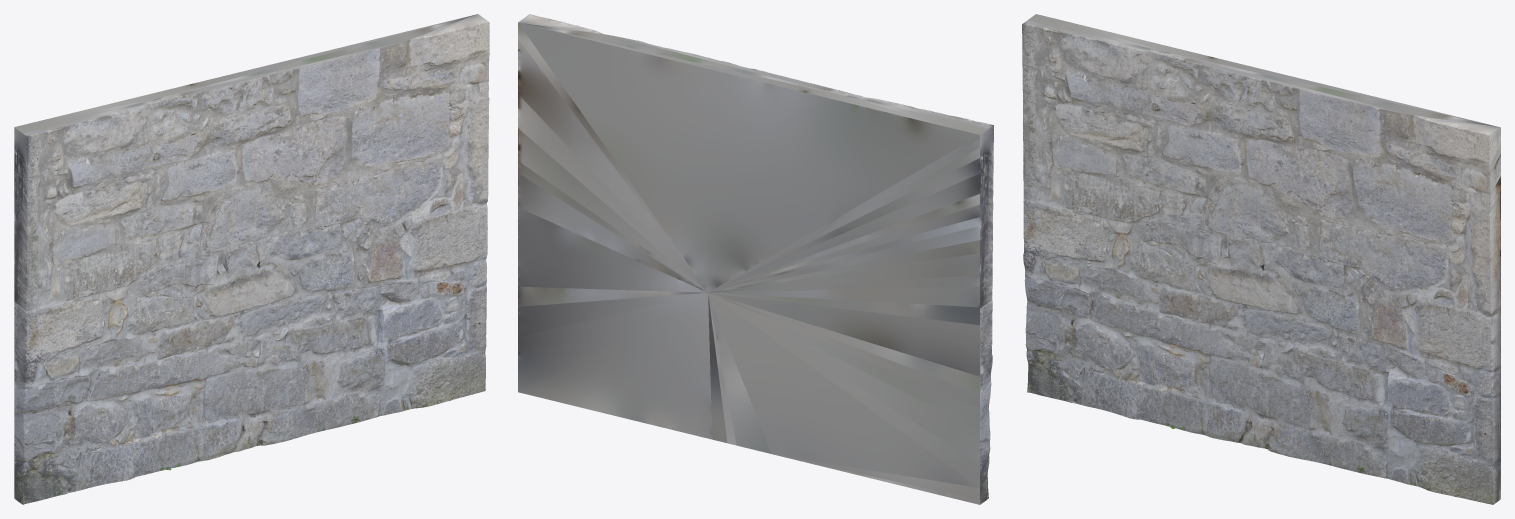
Rendered from stone_wall.glb.
The picture shows the model from 3 angles, left to right: view 1: azimuth 30°, elevation 25°; view 2: azimuth 150°, elevation 25°; view 3: azimuth 330°, elevation 25°; orthographic projection.
Visible parts, largest first — view 1: wall_stone_A_low; view 2: wall_stone_A_low; view 3: wall_stone_A_low.
Boxes of the visible parts, x1,y1,x2,y2 form: wall_stone_A_low: (14, 14, 489, 504); wall_stone_A_low: (518, 14, 993, 504); wall_stone_A_low: (1022, 14, 1500, 504).
Bounding box in the file's own units: 3.87 × 2.96 × 0.2009.
4 materials, 4 textured.
